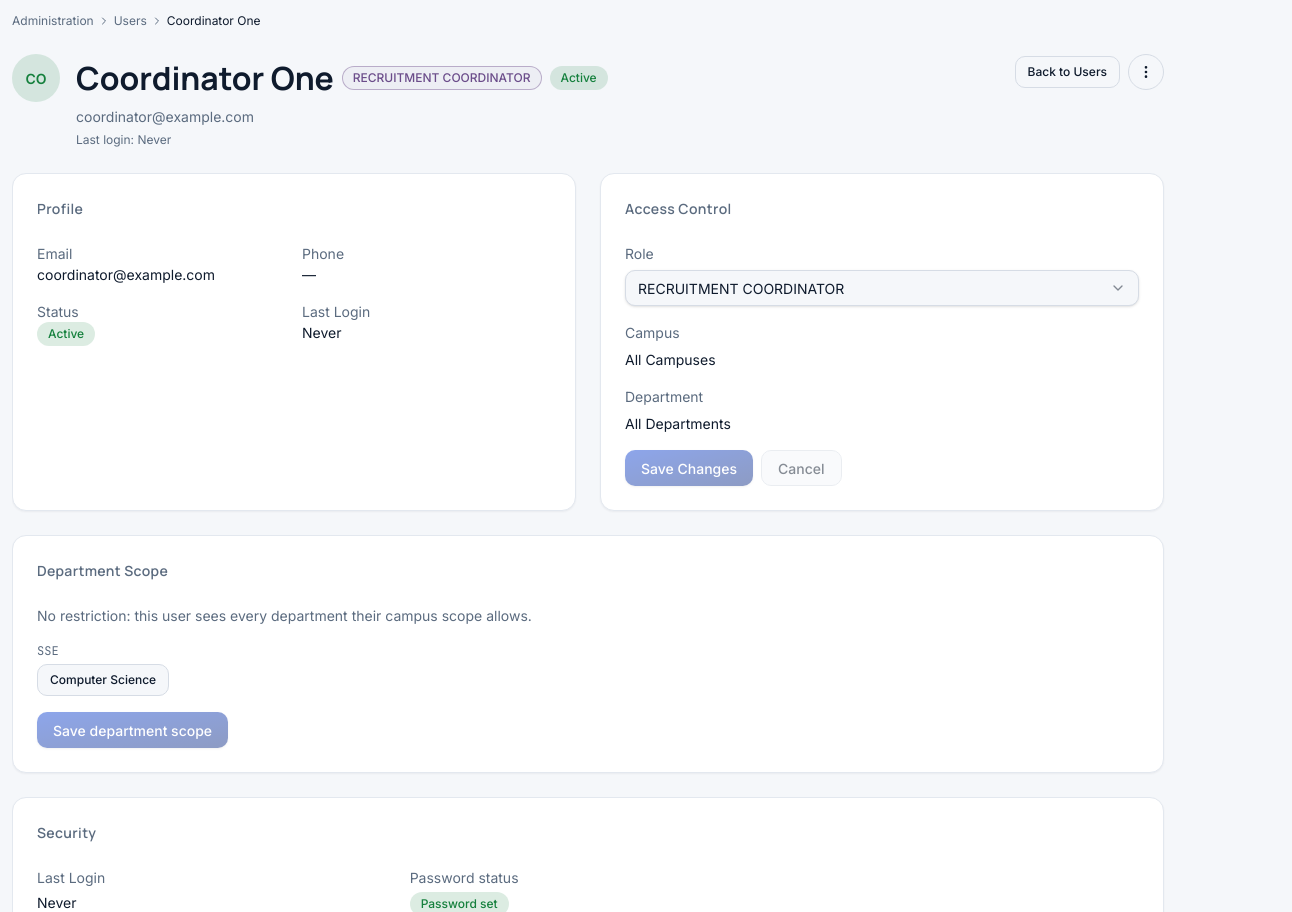
Test case: UserDetailPage access control -- save/cancel › disables Save Changes until a field actually changes, then enables it
Expected: the button "Save Changes" is disabled, [625,450,753,486]
Click the dropdown named "Role" at (741, 288), box [625,270,1139,306]
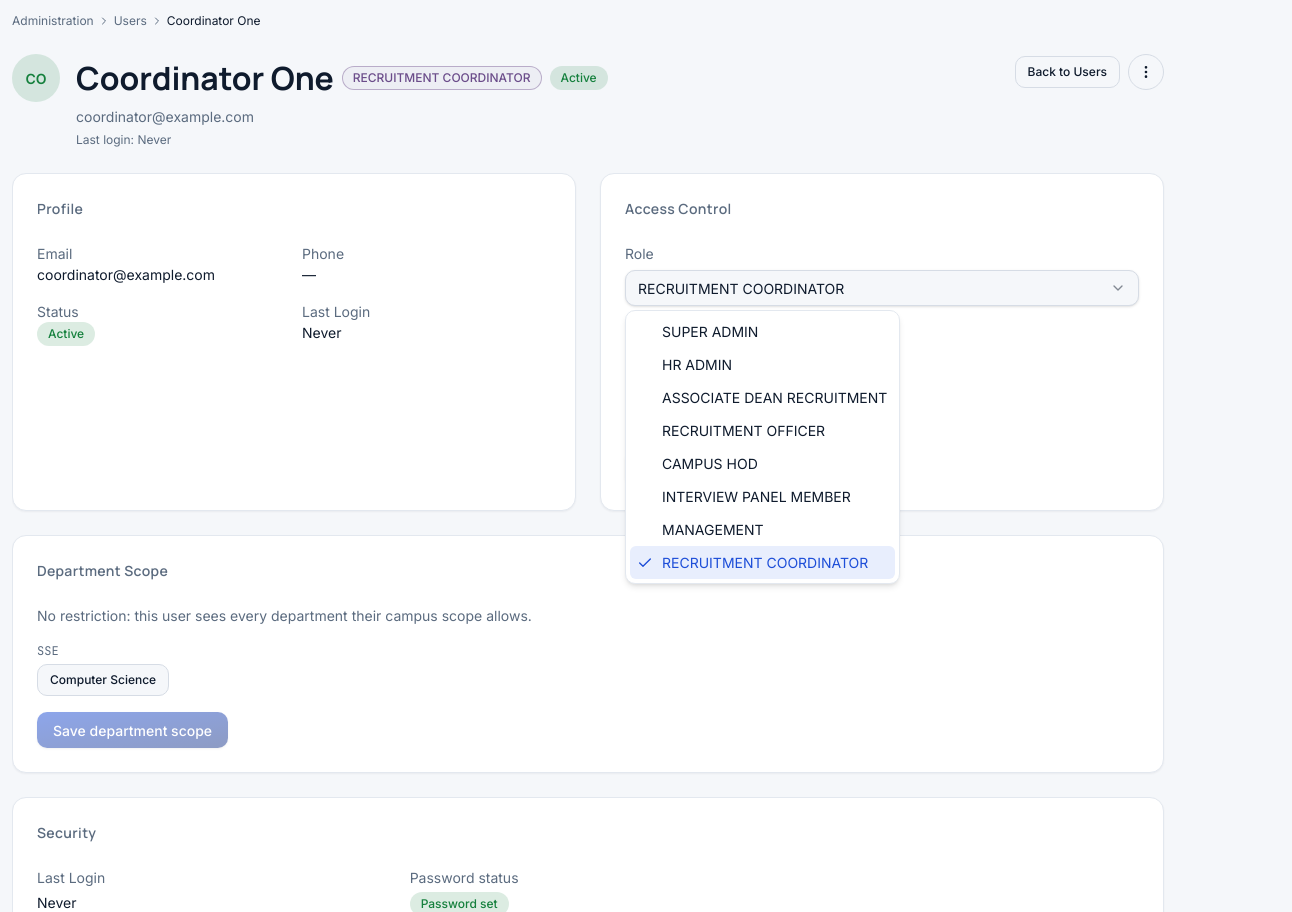
Click the option "SUPER ADMIN" at (710, 332), box [662,323,758,340]
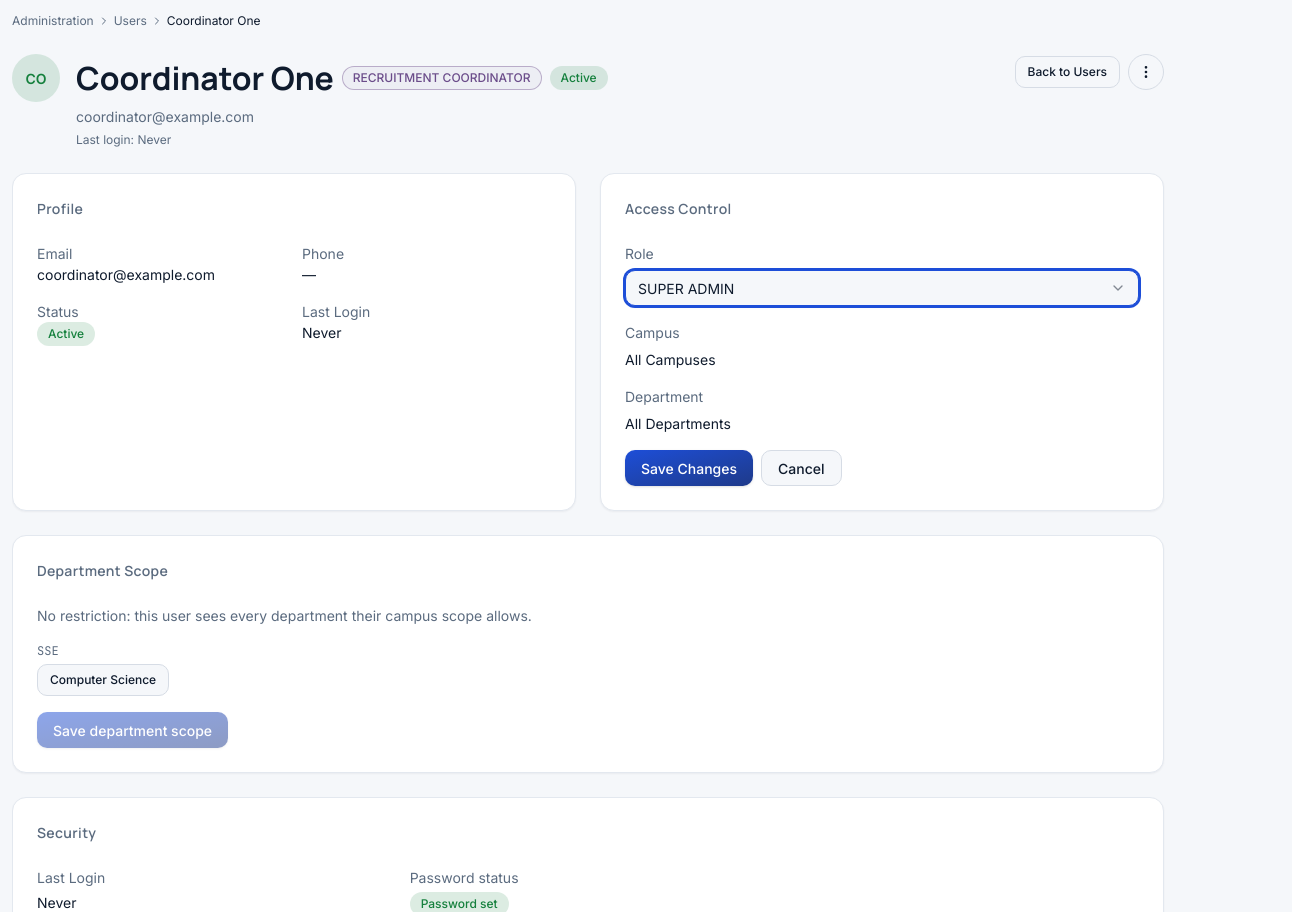
Result: the button "Save Changes" is enabled at [625,450,753,486]
